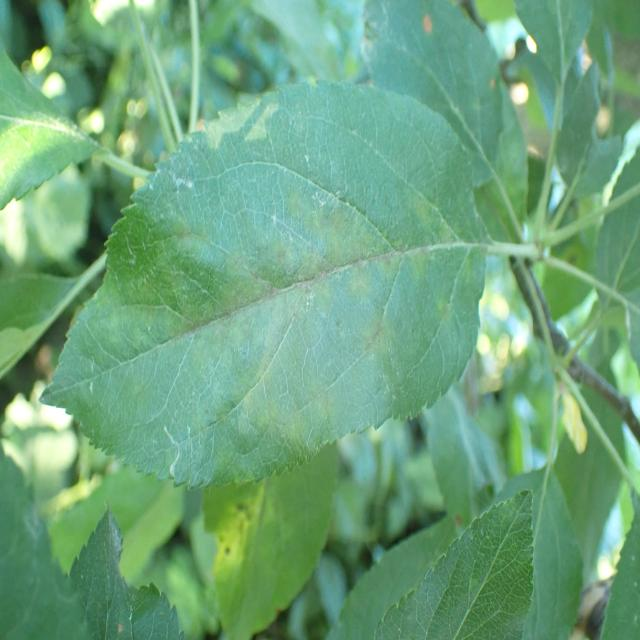scab: (76, 180, 475, 443)
